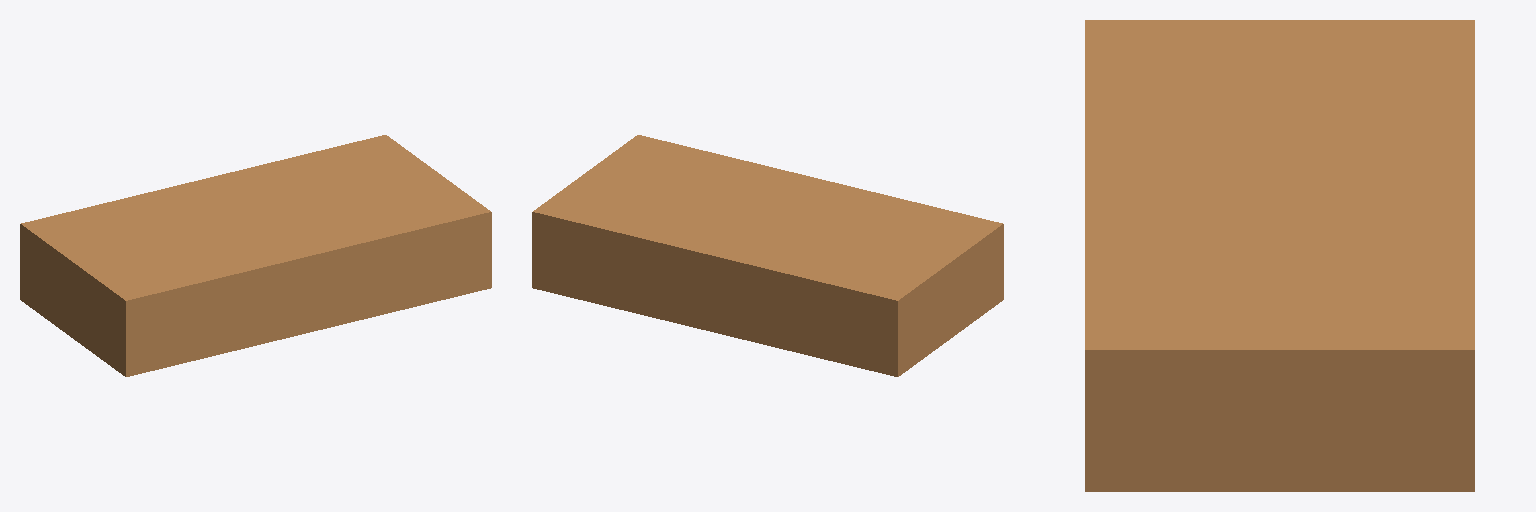
URDF robot description (quadruped):
<?xml version="1.0"?>
<robot name="quadruped">
  <material name="blue">
    <color rgba="0.8 0.6 0.4 1"/>
  </material>

  <link name="base_link"/>

  <link name="torso">
    <visual>
      <geometry>
        <box size="0.2 0.1 0.04"/>
      </geometry>
      <origin rpy="0 0 0" xyz="0 0 0"/>
      <material name="blue"/>
    </visual>
    <collision>
      <geometry>
        <box size="0.2 0.1 0.04"/>
      </geometry>
      <origin rpy="0 0 0" xyz="0 0 0"/>
    </collision>
    <inertial>
      <mass value="1.0"/>
      <inertia ixx="0.01" ixy="0" ixz="0" iyy="0.01" iyz="0" izz="0.01"/>
    </inertial>
  </link>

  <joint name="floating_joint" type="floating">
    <parent link="base_link"/>
    <child link="torso"/>
  </joint>

  <!-- Front-Right Leg -->
  <link name="FR_hip_link">
    <visual>
      <geometry>
        <capsule length="0.05" radius="0.02"/>
      </geometry>
      <origin rpy="0 1.5707 0" xyz="0 -0.025 0"/>
      <material name="blue"/>
    </visual>
    <collision>
      <geometry>
        <capsule length="0.05" radius="0.02"/>
      </geometry>
      <origin rpy="0 1.5707 0" xyz="0 -0.025 0"/>
    </collision>
    <inertial>
      <mass value="0.1"/>
      <inertia ixx="0.001" ixy="0" ixz="0" iyy="0.001" iyz="0" izz="0.001"/>
    </inertial>
  </link>
  <joint name="FR_hip_joint" type="revolute">
    <parent link="torso"/>
    <child link="FR_hip_link"/>
    <origin xyz="0.1 -0.05 0"/>
    <axis xyz="1 0 0"/>
    <limit effort="100" lower="-0.52" upper="0.52" velocity="10"/>
  </joint>

  <link name="FR_thigh_link">
    <visual>
      <geometry>
        <capsule length="0.1" radius="0.02"/>
      </geometry>
      <origin rpy="1.5707 0 0" xyz="0 0 -0.05"/>
      <material name="blue"/>
    </visual>
    <collision>
      <geometry>
        <capsule length="0.1" radius="0.02"/>
      </geometry>
      <origin rpy="1.5707 0 0" xyz="0 0 -0.05"/>
    </collision>
    <inertial>
      <mass value="0.1"/>
      <inertia ixx="0.001" ixy="0" ixz="0" iyy="0.001" iyz="0" izz="0.001"/>
    </inertial>
  </link>
  <joint name="FR_thigh_joint" type="revolute">
    <parent link="FR_hip_link"/>
    <child link="FR_thigh_link"/>
    <origin xyz="0 -0.05 0"/>
    <axis xyz="0 1 0"/>
    <limit effort="100" lower="-1.04" upper="1.04" velocity="10"/>
  </joint>

  <link name="FR_calf_link">
    <visual>
      <geometry>
        <capsule length="0.1" radius="0.02"/>
      </geometry>
      <origin rpy="1.5707 0 0" xyz="0 0 -0.05"/>
      <material name="blue"/>
    </visual>
    <collision>
      <geometry>
        <capsule length="0.1" radius="0.02"/>
      </geometry>
      <origin rpy="1.5707 0 0" xyz="0 0 -0.05"/>
    </collision>
    <inertial>
      <mass value="0.1"/>
      <inertia ixx="0.001" ixy="0" ixz="0" iyy="0.001" iyz="0" izz="0.001"/>
    </inertial>
  </link>
  <joint name="FR_calf_joint" type="revolute">
    <parent link="FR_thigh_link"/>
    <child link="FR_calf_link"/>
    <origin xyz="0 0 -0.1"/>
    <axis xyz="0 1 0"/>
    <limit effort="100" lower="-2.61" upper="-0.52" velocity="10"/>
  </joint>

  <!-- Front-Left Leg -->
  <link name="FL_hip_link">
    <visual>
      <geometry>
        <capsule length="0.05" radius="0.02"/>
      </geometry>
      <origin rpy="0 1.5707 0" xyz="0 0.025 0"/>
      <material name="blue"/>
    </visual>
    <collision>
      <geometry>
        <capsule length="0.05" radius="0.02"/>
      </geometry>
      <origin rpy="0 1.5707 0" xyz="0 0.025 0"/>
    </collision>
    <inertial>
      <mass value="0.1"/>
      <inertia ixx="0.001" ixy="0" ixz="0" iyy="0.001" iyz="0" izz="0.001"/>
    </inertial>
  </link>
  <joint name="FL_hip_joint" type="revolute">
    <parent link="torso"/>
    <child link="FL_hip_link"/>
    <origin xyz="0.1 0.05 0"/>
    <axis xyz="1 0 0"/>
    <limit effort="100" lower="-0.52" upper="0.52" velocity="10"/>
  </joint>

  <link name="FL_thigh_link">
    <visual>
      <geometry>
        <capsule length="0.1" radius="0.02"/>
      </geometry>
      <origin rpy="1.5707 0 0" xyz="0 0 -0.05"/>
      <material name="blue"/>
    </visual>
    <collision>
      <geometry>
        <capsule length="0.1" radius="0.02"/>
      </geometry>
      <origin rpy="1.5707 0 0" xyz="0 0 -0.05"/>
    </collision>
    <inertial>
      <mass value="0.1"/>
      <inertia ixx="0.001" ixy="0" ixz="0" iyy="0.001" iyz="0" izz="0.001"/>
    </inertial>
  </link>
  <joint name="FL_thigh_joint" type="revolute">
    <parent link="FL_hip_link"/>
    <child link="FL_thigh_link"/>
    <origin xyz="0 0.05 0"/>
    <axis xyz="0 1 0"/>
    <limit effort="100" lower="-1.04" upper="1.04" velocity="10"/>
  </joint>

  <link name="FL_calf_link">
    <visual>
      <geometry>
        <capsule length="0.1" radius="0.02"/>
      </geometry>
      <origin rpy="1.5707 0 0" xyz="0 0 -0.05"/>
      <material name="blue"/>
    </visual>
    <collision>
      <geometry>
        <capsule length="0.1" radius="0.02"/>
      </geometry>
      <origin rpy="1.5707 0 0" xyz="0 0 -0.05"/>
    </collision>
    <inertial>
      <mass value="0.1"/>
      <inertia ixx="0.001" ixy="0" ixz="0" iyy="0.001" iyz="0" izz="0.001"/>
    </inertial>
  </link>
  <joint name="FL_calf_joint" type="revolute">
    <parent link="FL_thigh_link"/>
    <child link="FL_calf_link"/>
    <origin xyz="0 0 -0.1"/>
    <axis xyz="0 1 0"/>
    <limit effort="100" lower="-2.61" upper="-0.52" velocity="10"/>
  </joint>

  <!-- Back-Right Leg -->
  <link name="BR_hip_link">
    <visual>
      <geometry>
        <capsule length="0.05" radius="0.02"/>
      </geometry>
      <origin rpy="0 1.5707 0" xyz="0 -0.025 0"/>
      <material name="blue"/>
    </visual>
    <collision>
      <geometry>
        <capsule length="0.05" radius="0.02"/>
      </geometry>
      <origin rpy="0 1.5707 0" xyz="0 -0.025 0"/>
    </collision>
    <inertial>
      <mass value="0.1"/>
      <inertia ixx="0.001" ixy="0" ixz="0" iyy="0.001" iyz="0" izz="0.001"/>
    </inertial>
  </link>
  <joint name="BR_hip_joint" type="revolute">
    <parent link="torso"/>
    <child link="BR_hip_link"/>
    <origin xyz="-0.1 -0.05 0"/>
    <axis xyz="1 0 0"/>
    <limit effort="100" lower="-0.52" upper="0.52" velocity="10"/>
  </joint>

  <link name="BR_thigh_link">
    <visual>
      <geometry>
        <capsule length="0.1" radius="0.02"/>
      </geometry>
      <origin rpy="1.5707 0 0" xyz="0 0 -0.05"/>
      <material name="blue"/>
    </visual>
    <collision>
      <geometry>
        <capsule length="0.1" radius="0.02"/>
      </geometry>
      <origin rpy="1.5707 0 0" xyz="0 0 -0.05"/>
    </collision>
    <inertial>
      <mass value="0.1"/>
      <inertia ixx="0.001" ixy="0" ixz="0" iyy="0.001" iyz="0" izz="0.001"/>
    </inertial>
  </link>
  <joint name="BR_thigh_joint" type="revolute">
    <parent link="BR_hip_link"/>
    <child link="BR_thigh_link"/>
    <origin xyz="0 -0.05 0"/>
    <axis xyz="0 1 0"/>
    <limit effort="100" lower="-1.04" upper="1.04" velocity="10"/>
  </joint>

  <link name="BR_calf_link">
    <visual>
      <geometry>
        <capsule length="0.1" radius="0.02"/>
      </geometry>
      <origin rpy="1.5707 0 0" xyz="0 0 -0.05"/>
      <material name="blue"/>
    </visual>
    <collision>
      <geometry>
        <capsule length="0.1" radius="0.02"/>
      </geometry>
      <origin rpy="1.5707 0 0" xyz="0 0 -0.05"/>
    </collision>
    <inertial>
      <mass value="0.1"/>
      <inertia ixx="0.001" ixy="0" ixz="0" iyy="0.001" iyz="0" izz="0.001"/>
    </inertial>
  </link>
  <joint name="BR_calf_joint" type="revolute">
    <parent link="BR_thigh_link"/>
    <child link="BR_calf_link"/>
    <origin xyz="0 0 -0.1"/>
    <axis xyz="0 1 0"/>
    <limit effort="100" lower="-2.61" upper="-0.52" velocity="10"/>
  </joint>

  <!-- Back-Left Leg -->
  <link name="BL_hip_link">
    <visual>
      <geometry>
        <capsule length="0.05" radius="0.02"/>
      </geometry>
      <origin rpy="0 1.5707 0" xyz="0 0.025 0"/>
      <material name="blue"/>
    </visual>
    <collision>
      <geometry>
        <capsule length="0.05" radius="0.02"/>
      </geometry>
      <origin rpy="0 1.5707 0" xyz="0 0.025 0"/>
    </collision>
    <inertial>
      <mass value="0.1"/>
      <inertia ixx="0.001" ixy="0" ixz="0" iyy="0.001" iyz="0" izz="0.001"/>
    </inertial>
  </link>
  <joint name="BL_hip_joint" type="revolute">
    <parent link="torso"/>
    <child link="BL_hip_link"/>
    <origin xyz="-0.1 0.05 0"/>
    <axis xyz="1 0 0"/>
    <limit effort="100" lower="-0.52" upper="0.52" velocity="10"/>
  </joint>

  <link name="BL_thigh_link">
    <visual>
      <geometry>
        <capsule length="0.1" radius="0.02"/>
      </geometry>
      <origin rpy="1.5707 0 0" xyz="0 0 -0.05"/>
      <material name="blue"/>
    </visual>
    <collision>
      <geometry>
        <capsule length="0.1" radius="0.02"/>
      </geometry>
      <origin rpy="1.5707 0 0" xyz="0 0 -0.05"/>
    </collision>
    <inertial>
      <mass value="0.1"/>
      <inertia ixx="0.001" ixy="0" ixz="0" iyy="0.001" iyz="0" izz="0.001"/>
    </inertial>
  </link>
  <joint name="BL_thigh_joint" type="revolute">
    <parent link="BL_hip_link"/>
    <child link="BL_thigh_link"/>
    <origin xyz="0 0.05 0"/>
    <axis xyz="0 1 0"/>
    <limit effort="100" lower="-1.04" upper="1.04" velocity="10"/>
  </joint>

  <link name="BL_calf_link">
    <visual>
      <geometry>
        <capsule length="0.1" radius="0.02"/>
      </geometry>
      <origin rpy="1.5707 0 0" xyz="0 0 -0.05"/>
      <material name="blue"/>
    </visual>
    <collision>
      <geometry>
        <capsule length="0.1" radius="0.02"/>
      </geometry>
      <origin rpy="1.5707 0 0" xyz="0 0 -0.05"/>
    </collision>
    <inertial>
      <mass value="0.1"/>
      <inertia ixx="0.001" ixy="0" ixz="0" iyy="0.001" iyz="0" izz="0.001"/>
    </inertial>
  </link>
  <joint name="BL_calf_joint" type="revolute">
    <parent link="BL_thigh_link"/>
    <child link="BL_calf_link"/>
    <origin xyz="0 0 -0.1"/>
    <axis xyz="0 1 0"/>
    <limit effort="100" lower="-2.61" upper="-0.52" velocity="10"/>
  </joint>

</robot>

--- Render facts (derived) ---
3 views of the same robot in one strip: view 1: azimuth 30°, elevation 25°; view 2: azimuth 150°, elevation 25°; view 3: azimuth 270°, elevation 25° (orthographic).
Model quadruped with 14 links and 13 joints (12 revolute, 1 floating), rooted at base_link, posed joints at zero except 4 at the middle of their limits (FR_calf_joint = -1.56, FL_calf_joint = -1.56, BR_calf_joint = -1.56, BL_calf_joint = -1.56).
Links seen in each view (by area): view 1: torso; view 2: torso; view 3: torso.
Link boxes in pixels (left/top/right/bottom): torso: left=20, top=135, right=491, bottom=376; torso: left=532, top=135, right=1003, bottom=376; torso: left=1085, top=20, right=1474, bottom=491.
Size in the robot's own frame: 0.2 by 0.1 by 0.04 metres.
Geometry: primitives only (box / cylinder / sphere), no mesh files.